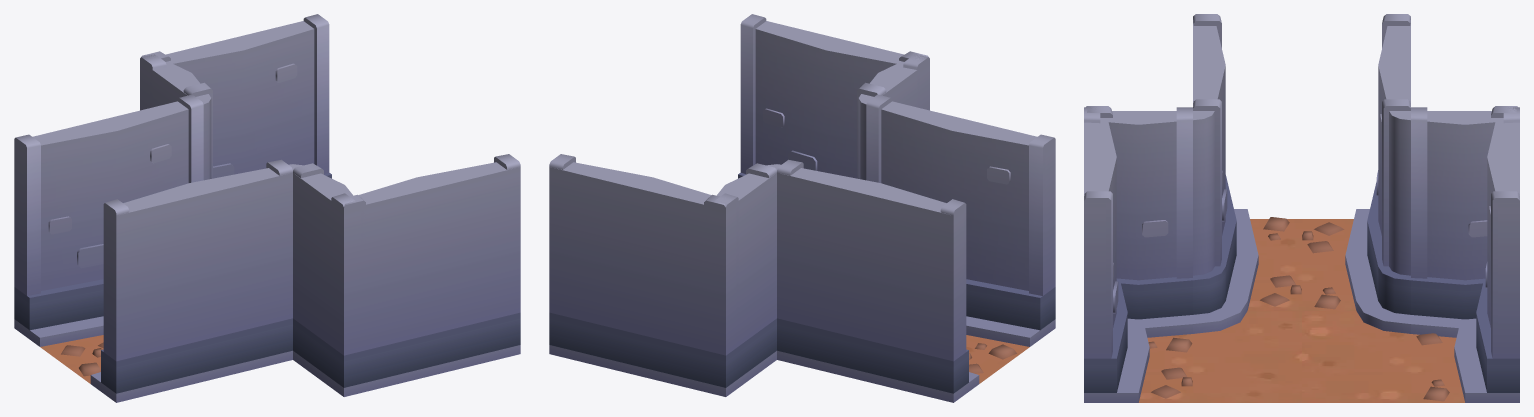
The model's file is kenney-modular-dungeon-corridor-transition.glb.
The picture shows the model from 3 angles, left to right: view 1: azimuth 30°, elevation 25°; view 2: azimuth 150°, elevation 25°; view 3: azimuth 270°, elevation 25°; orthographic projection. The views are drawn at different scales.
Visible parts, largest first — view 1: corridor-transition; view 2: corridor-transition; view 3: corridor-transition.
Part boxes in pixels (x1=…): corridor-transition: x1=14, y1=14, x2=520, y2=402; corridor-transition: x1=549, y1=14, x2=1055, y2=402; corridor-transition: x1=1084, y1=14, x2=1519, y2=402.
Size of the model in its own units: 8 by 4.15 by 8.
Materials: 1 (1 with a texture image).
